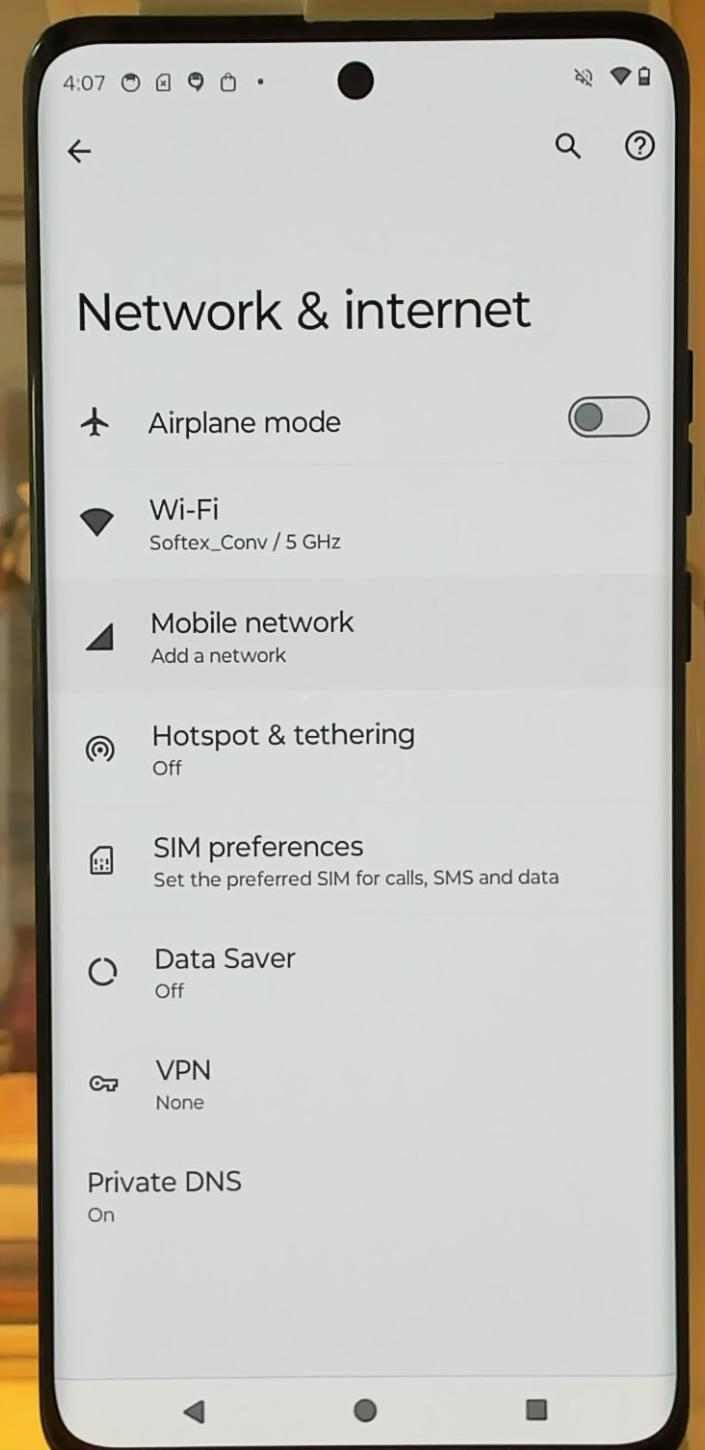Checkbox: (555, 375, 661, 450)
